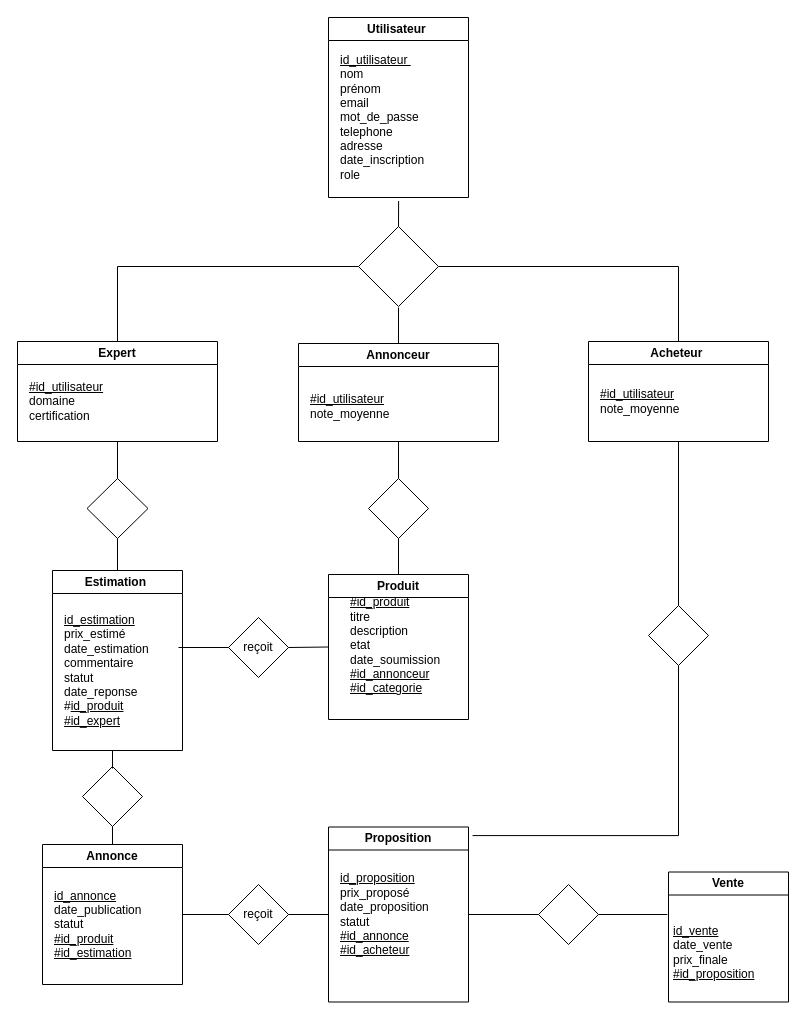
The diagram is 806 pixels wide and 1020 high, and some of its shapes have lost their labels. Here are the shapes that lost their labels. From the top down, the centre of each, then its label:
At pixel 398 266: "est un".
At pixel 117 508: "effectue".
At pixel 398 508: "soumet".
At pixel 678 635: "fait".
At pixel 112 796: "genère".
At pixel 568 914: "conclut".
